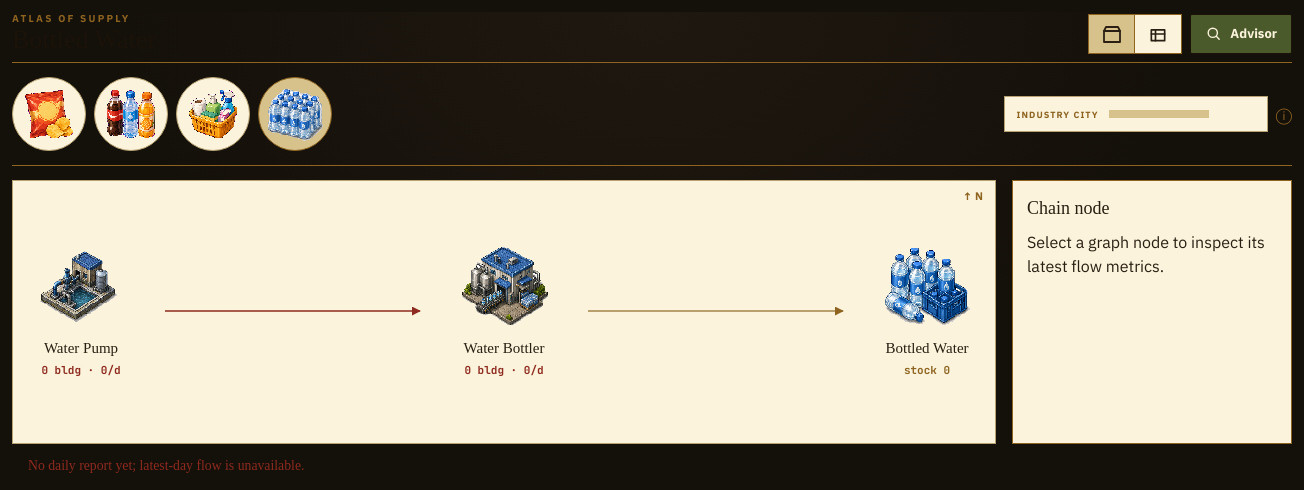
Scenario: ProductChainsPanel › disables the Supply Advisor button for products not in plannerProductIds
This screenshot has width=1304, height=490.
Click the heading "ⓘ". click: click(1284, 114)
box: [1276,102,1292,126]
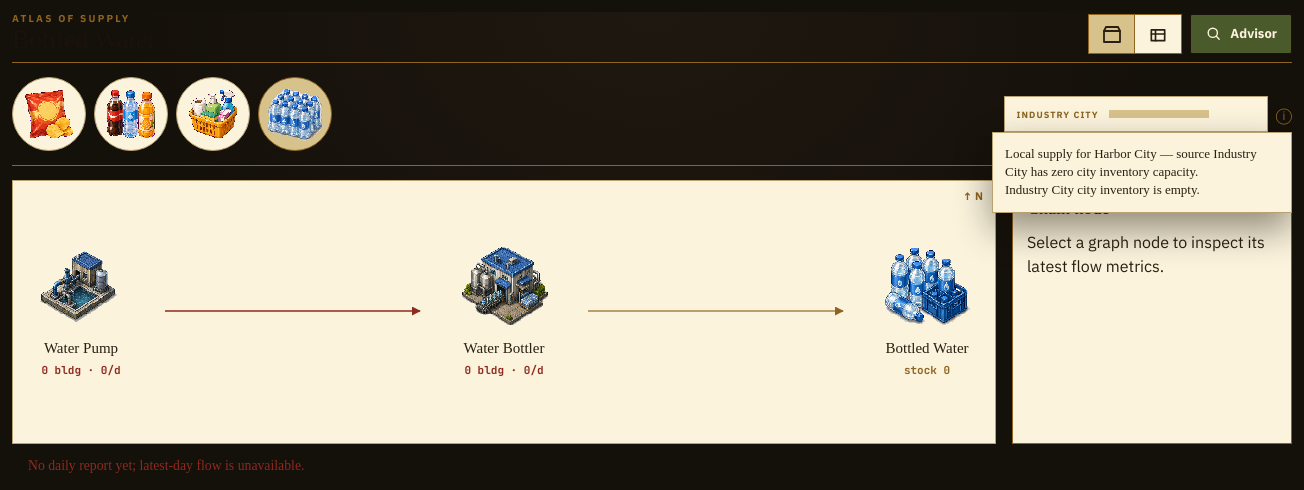
Click the button with test id "category-stamp-snacks". click: click(49, 114)
box: [12,77,86,151]
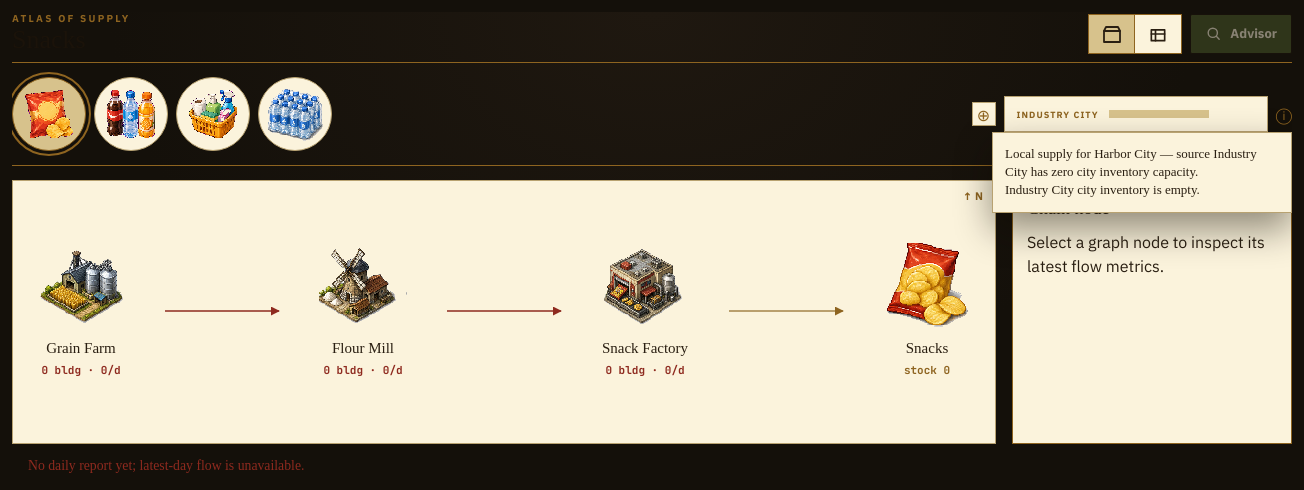
Now the button with aria-label "Supply advisor" is disabled, box [1190,14,1292,54]
